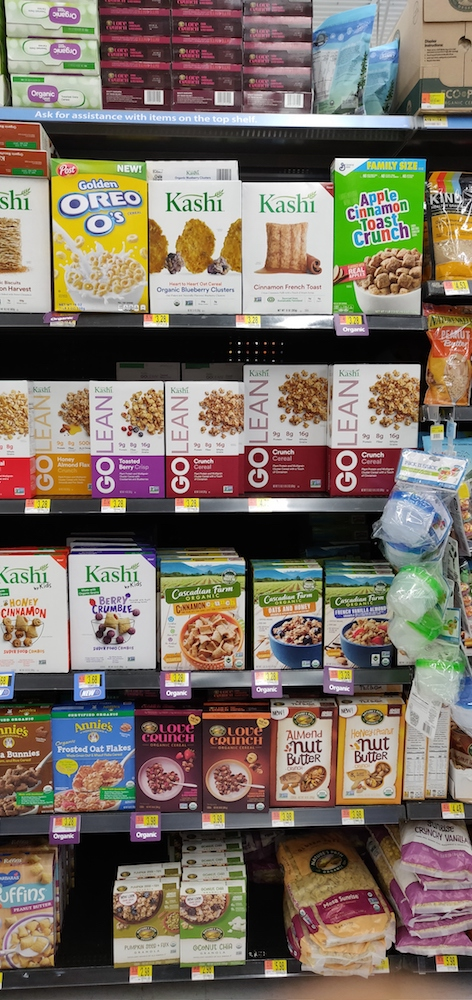Oreo Golden-568301011: (52, 154, 150, 317)
